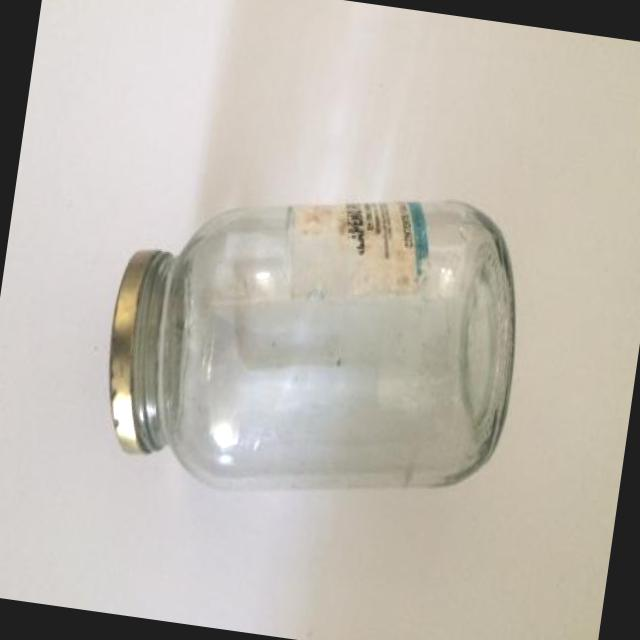chai_thuy_tinh: (133, 198, 516, 491)
nhom: (109, 250, 151, 453)
